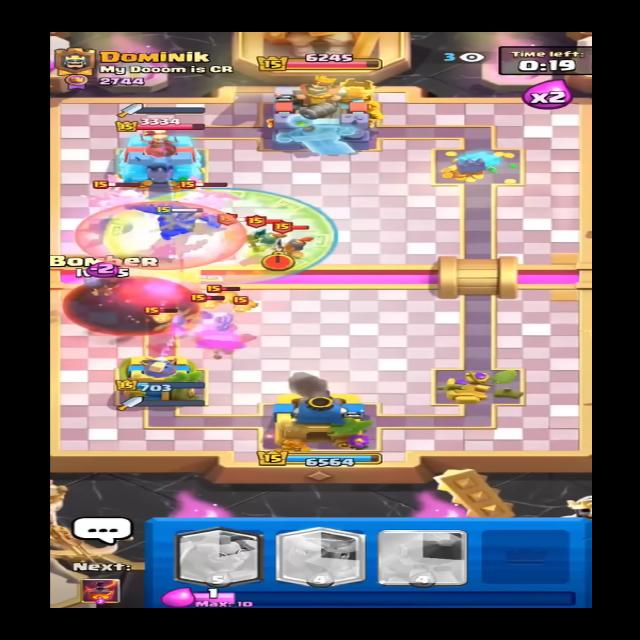guards: (274, 228, 321, 264), (243, 215, 284, 255)
skeleton-dragon: (173, 179, 233, 221), (87, 181, 148, 216)
void: (58, 278, 195, 335)
